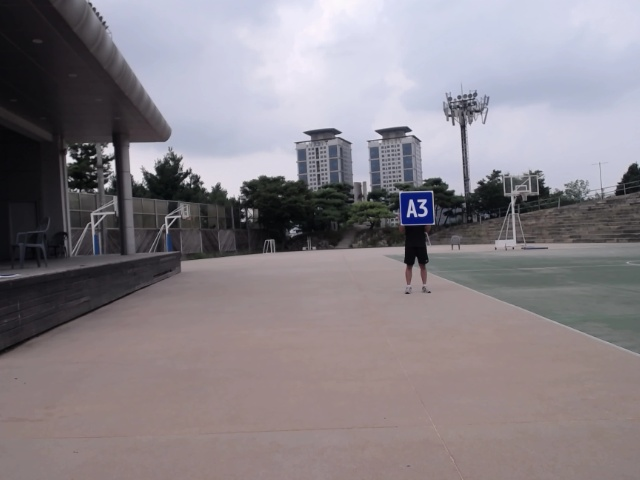delivery_a3: (399, 191, 435, 226)
